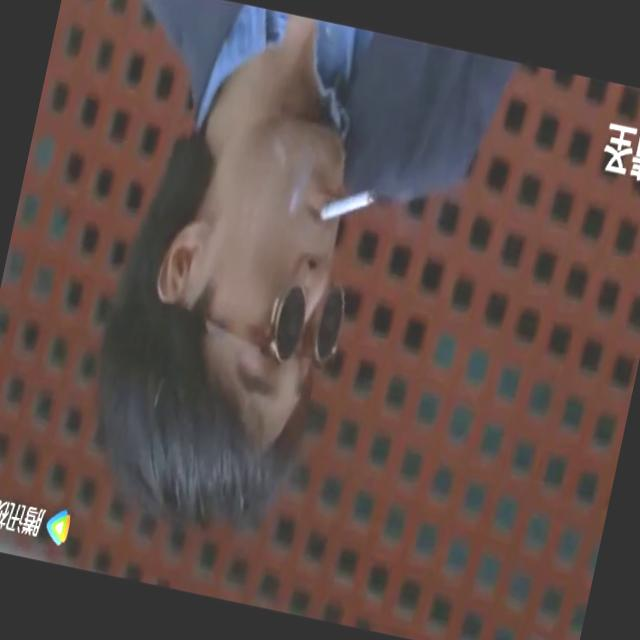cigarette: (319, 172, 376, 226)
